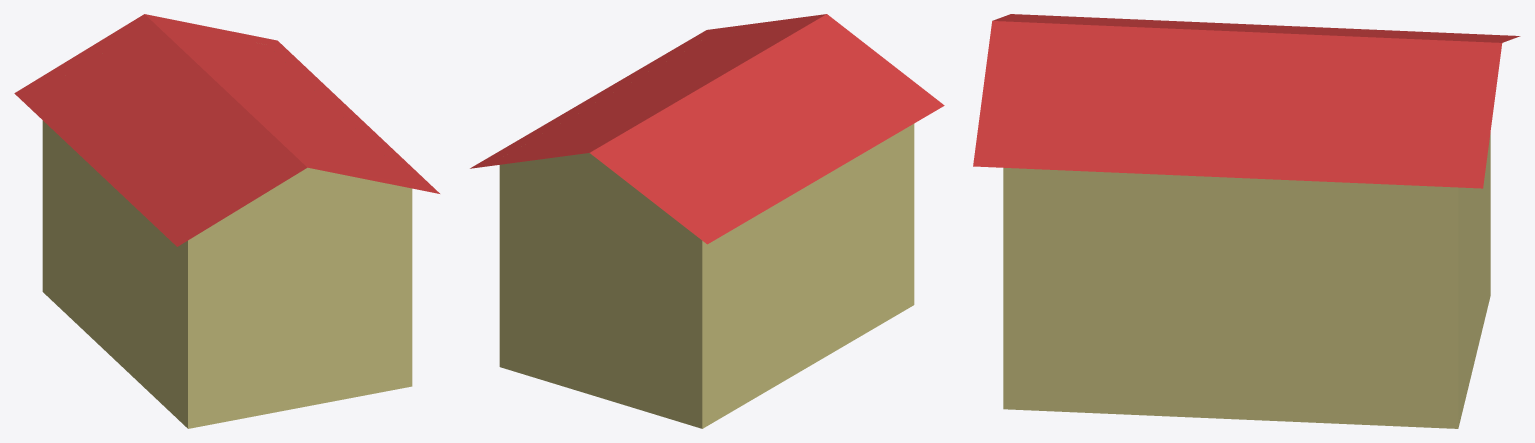
The picture shows the model from 3 angles, left to right: view 1: azimuth 30°, elevation 25°; view 2: azimuth 150°, elevation 25°; view 3: azimuth 270°, elevation 25°; orthographic projection. The views are drawn at different scales.
Size of the model in its own units: 11.42 by 14.83 by 9.55.
